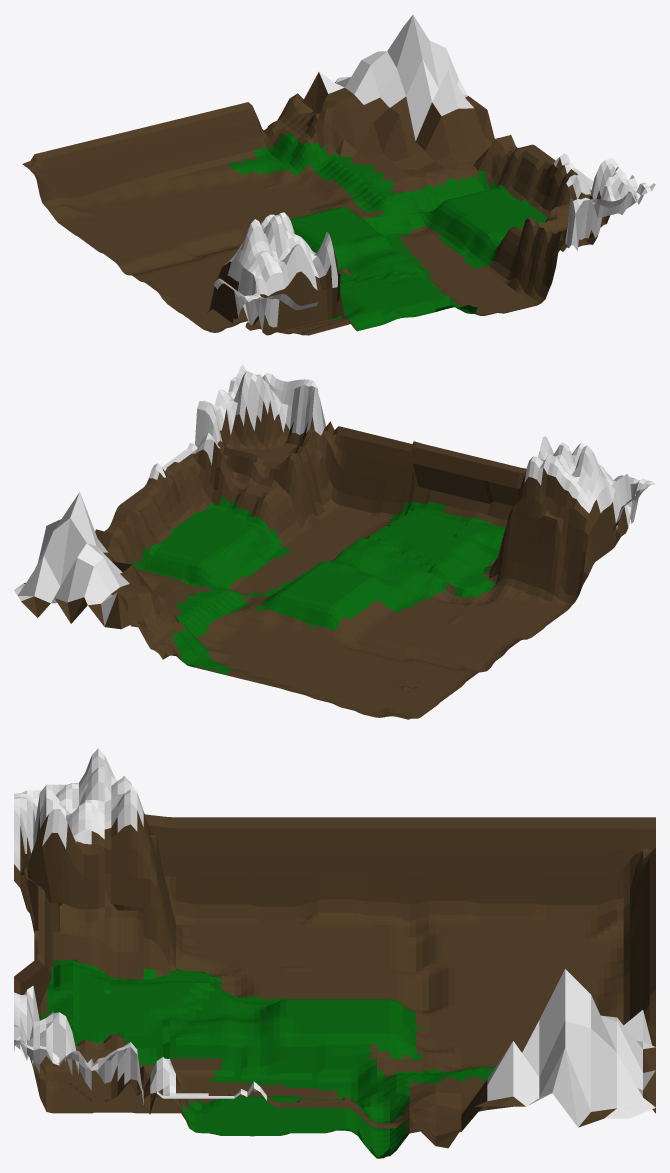
File: World.fbx
3 renders of one model, top to bottom at view 1: azimuth 30°, elevation 25°; view 2: azimuth 150°, elevation 25°; view 3: azimuth 270°, elevation 25°, orthographic. The views are drawn at different scales.
Parts seen in each view (by area): view 1: World; view 2: World; view 3: World.
Boxes of the visible parts, x1,y1,x2,y2 form: World: [22, 15, 655, 335]; World: [14, 364, 655, 719]; World: [14, 748, 655, 1158].
Bounding box in the file's own units: 2000 × 662 × 2000.
